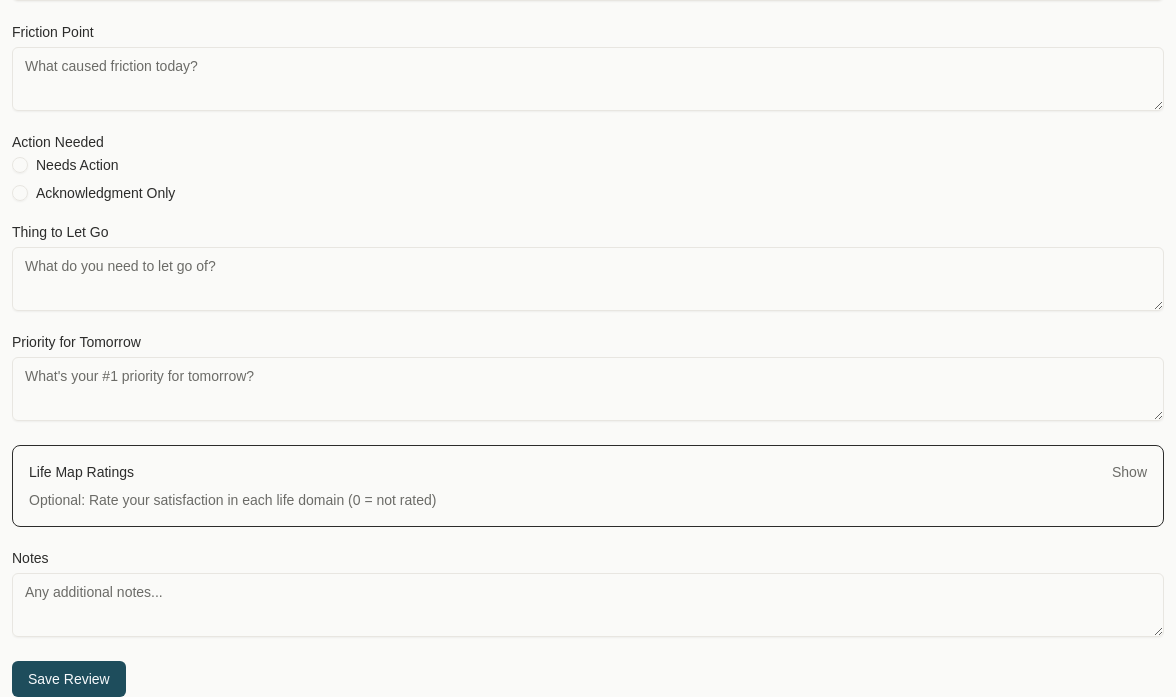
Test: AC3: Form Validation Icons Clarified › AC3.1: Red icons removed or clearly explained › should only show error indicators AFTER form submission with invalid data
The image size is (1176, 697).
(page scrolled)
# Submit without filling required fields
Click the button "Save Review": coordinates (69, 679) [12,661,126,696]
(page scrolled)
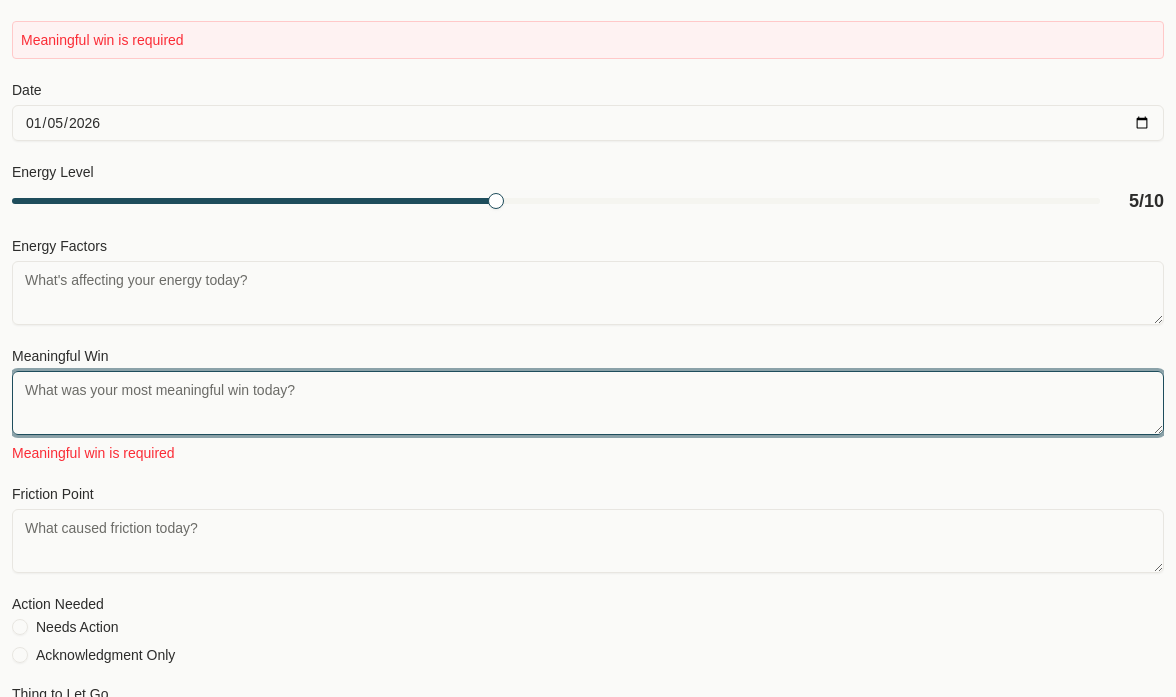
Check: the message shows "required", box [21,32,184,48]
